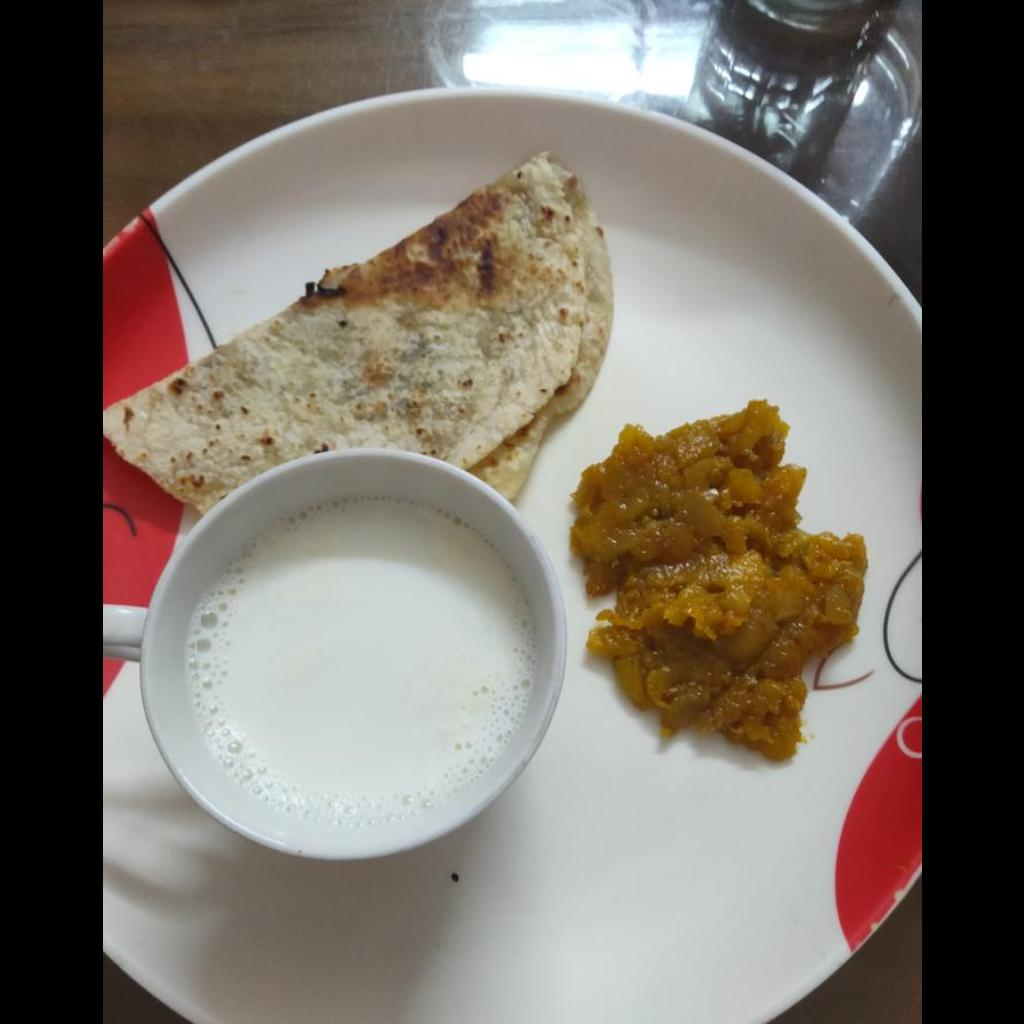kumra-vaji: (568, 403, 864, 756)
milk: (178, 495, 539, 824)
ruti: (102, 153, 616, 503)
